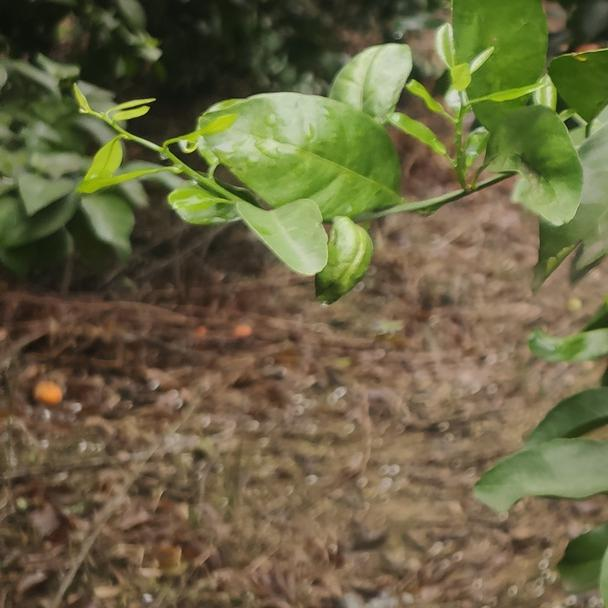shoot: (62, 82, 224, 211), (413, 25, 529, 182)
